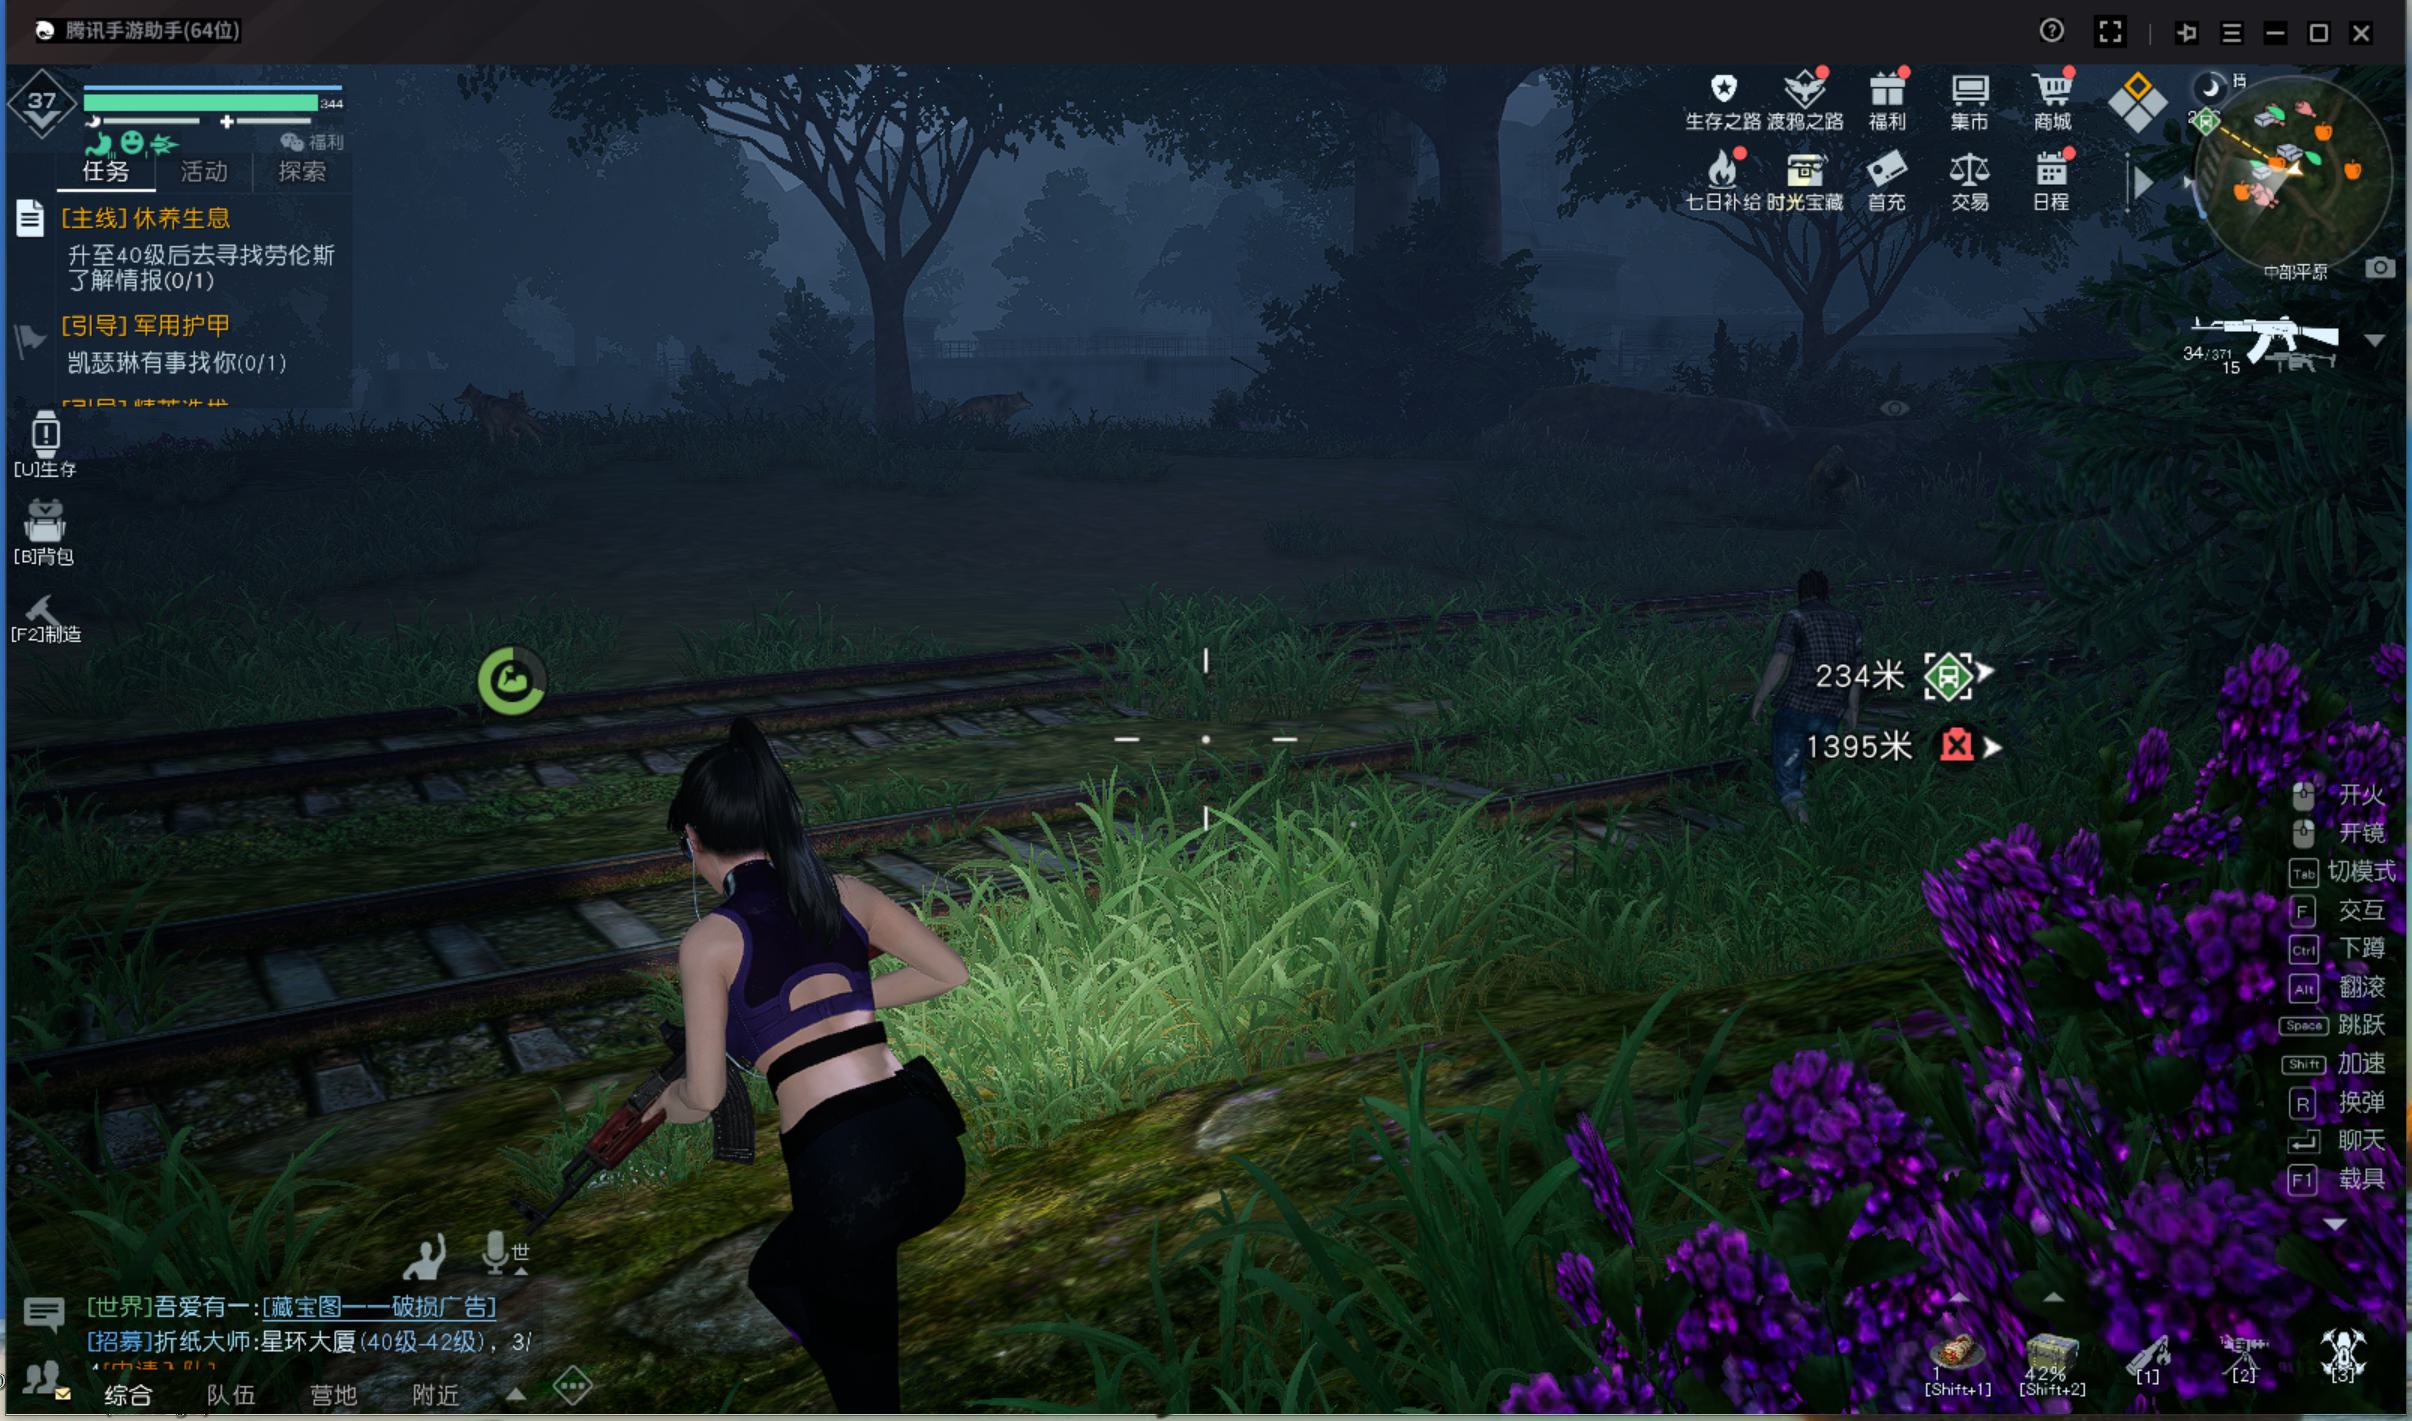tree: (1423, 145, 1539, 414), (852, 281, 929, 470)
